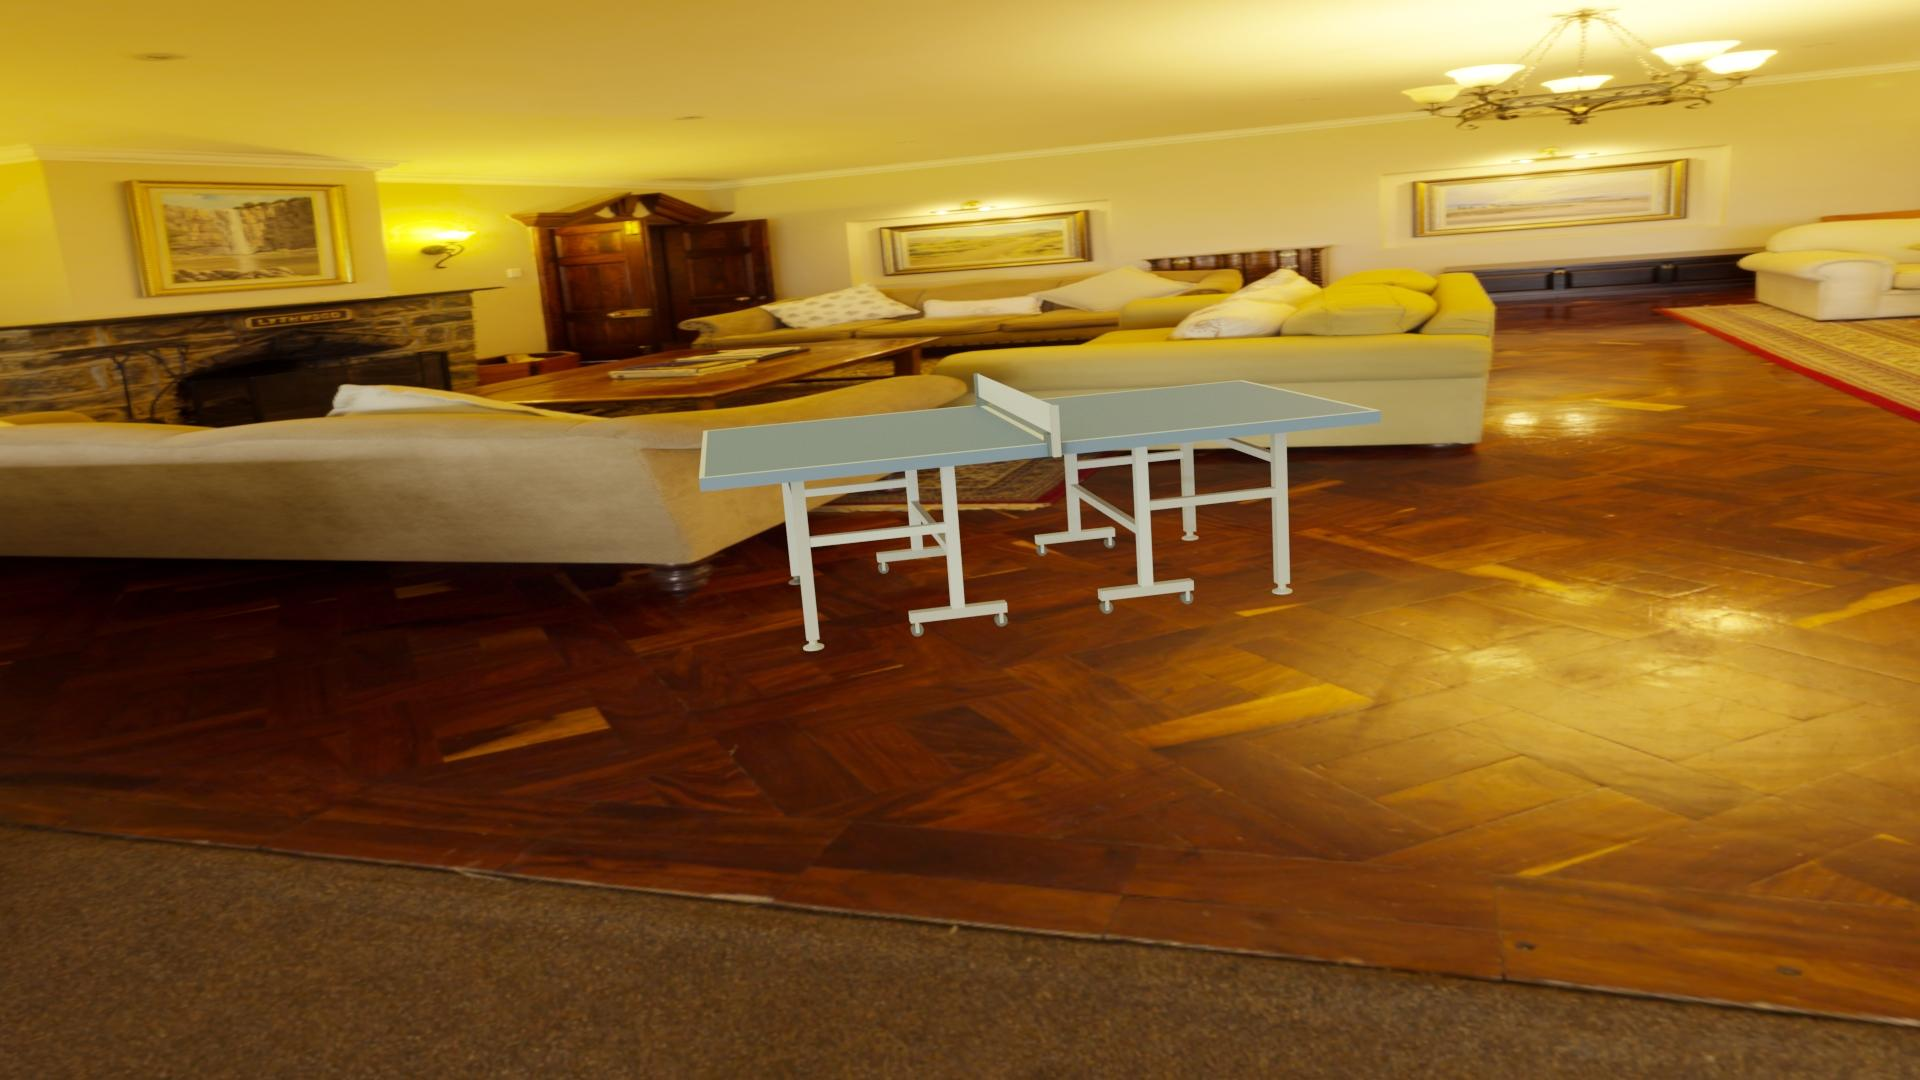table: (704, 381, 1374, 477)
